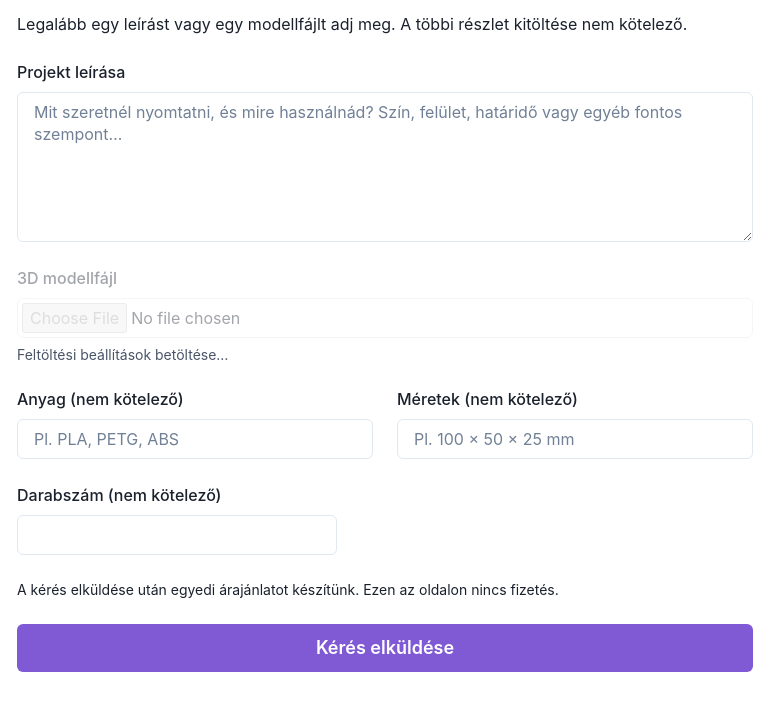
Test: requires contact information and a description or model before posting
(page scrolled)
Click the button "Kérés elküldése".
click(385, 648)  # box left=17, top=624, right=753, bottom=672
(page scrolled)
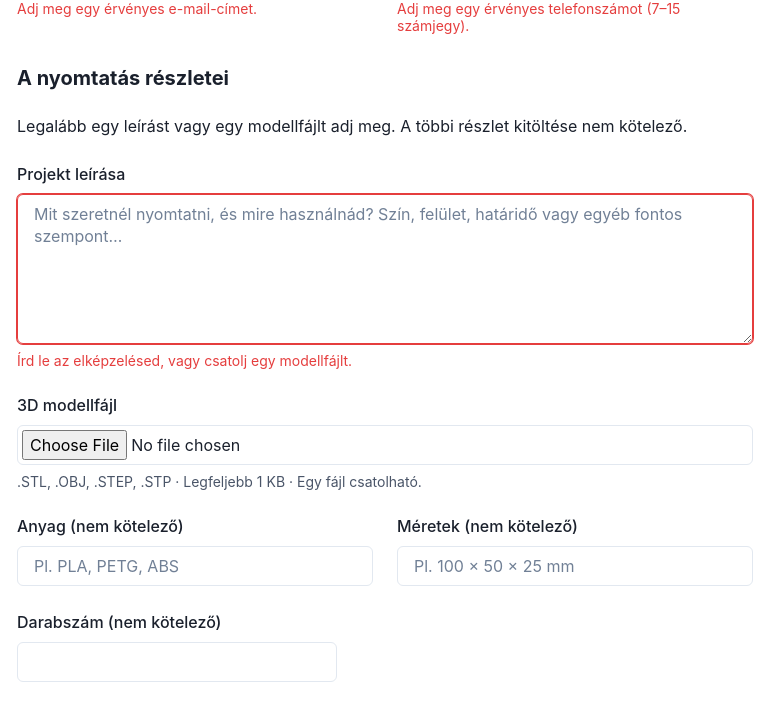
Result: the text "Adj meg egy érvényes e-mail-címet." is shown at left=17, top=0, right=257, bottom=17
Result: the text "Adj meg egy érvényes telefonszámot (7–15 számjegy)." is shown at left=397, top=0, right=680, bottom=34
Result: the text "Írd le az elképzelésed, vagy csatolj egy modellfájlt." is shown at left=17, top=352, right=352, bottom=369
